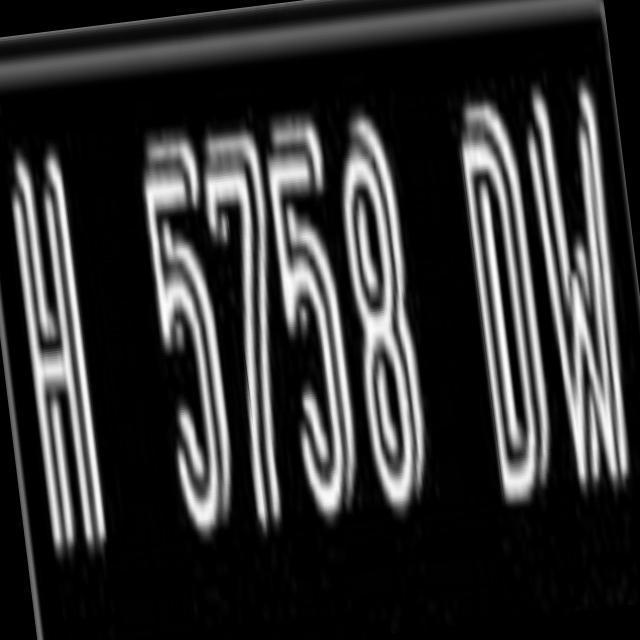5: (118, 153, 240, 548), (260, 142, 370, 535)
7: (194, 163, 301, 543)
8: (317, 112, 434, 546)
D: (454, 106, 570, 534)
H: (0, 140, 121, 567)
W: (511, 69, 640, 515)
